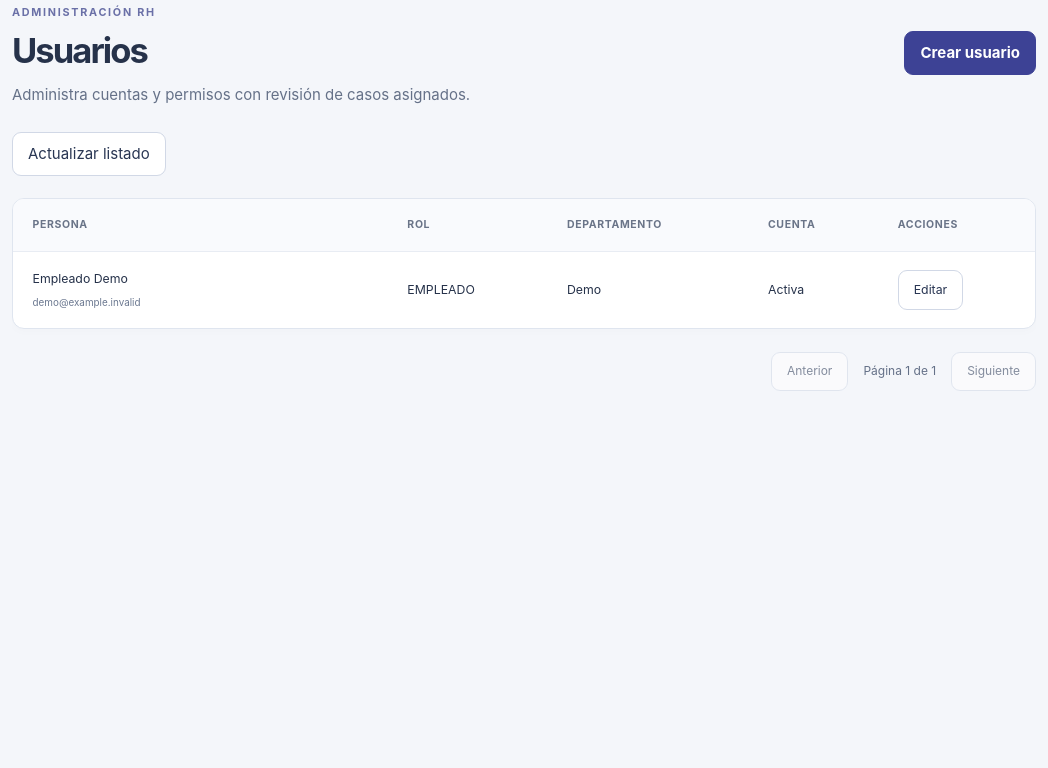
Scenario: modifica rol, departamento y baja con motivo y muestra ajustes
Click the button with aria-label "Editar Empleado Demo".
click(930, 290)  # box [898,270,963,310]
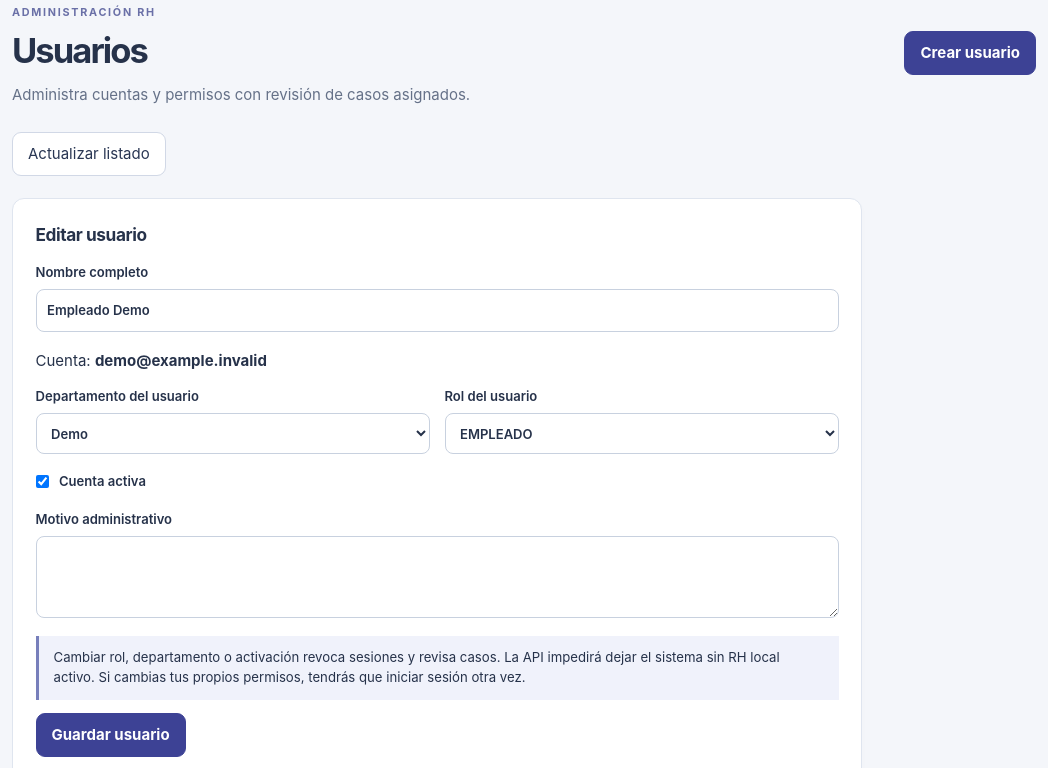
Select "SUPERVISOR" in the dropdown labelled "Rol del usuario" at (642, 434), box [444,413,838,454]
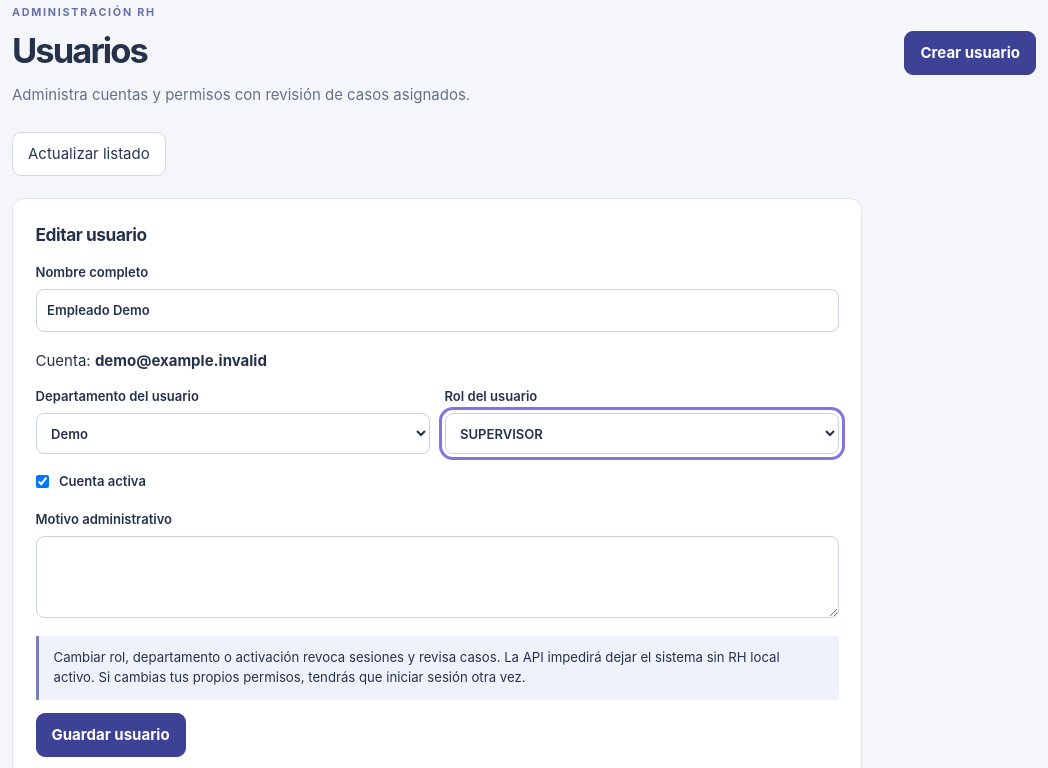
Select "Otro" in the dropdown labelled "Departamento del usuario" at (232, 434), box [36,413,430,454]
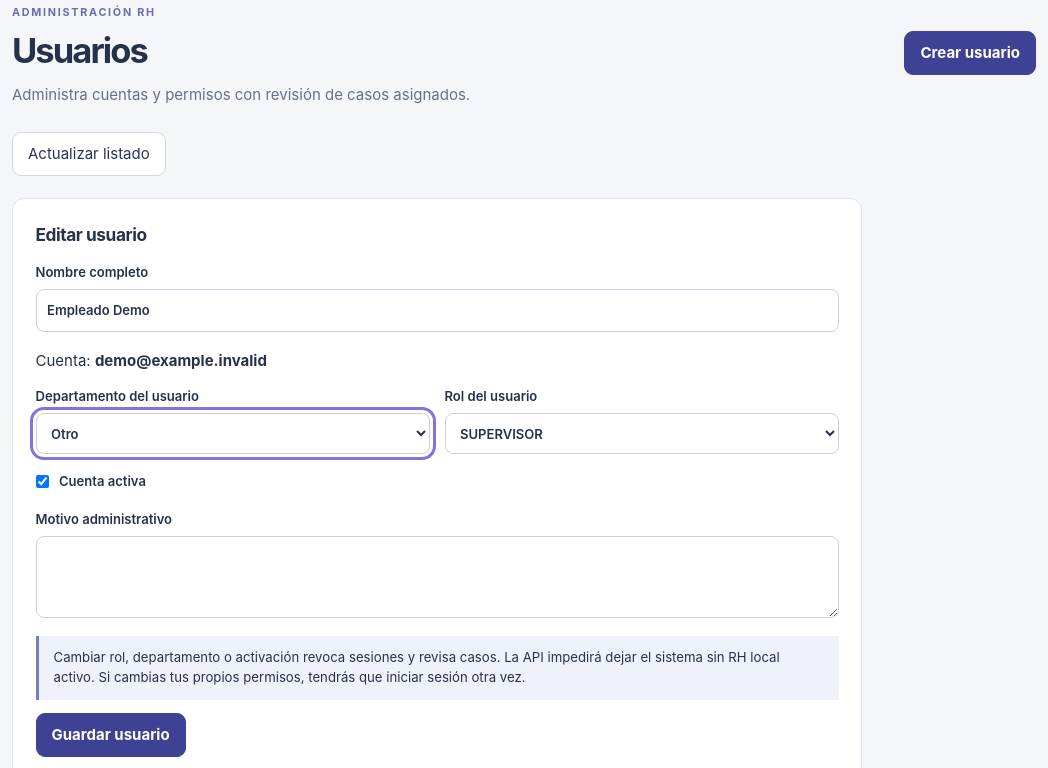
Click the checkbox labelled "Cuenta activa".
click(42, 482)  # box [36,475,48,488]
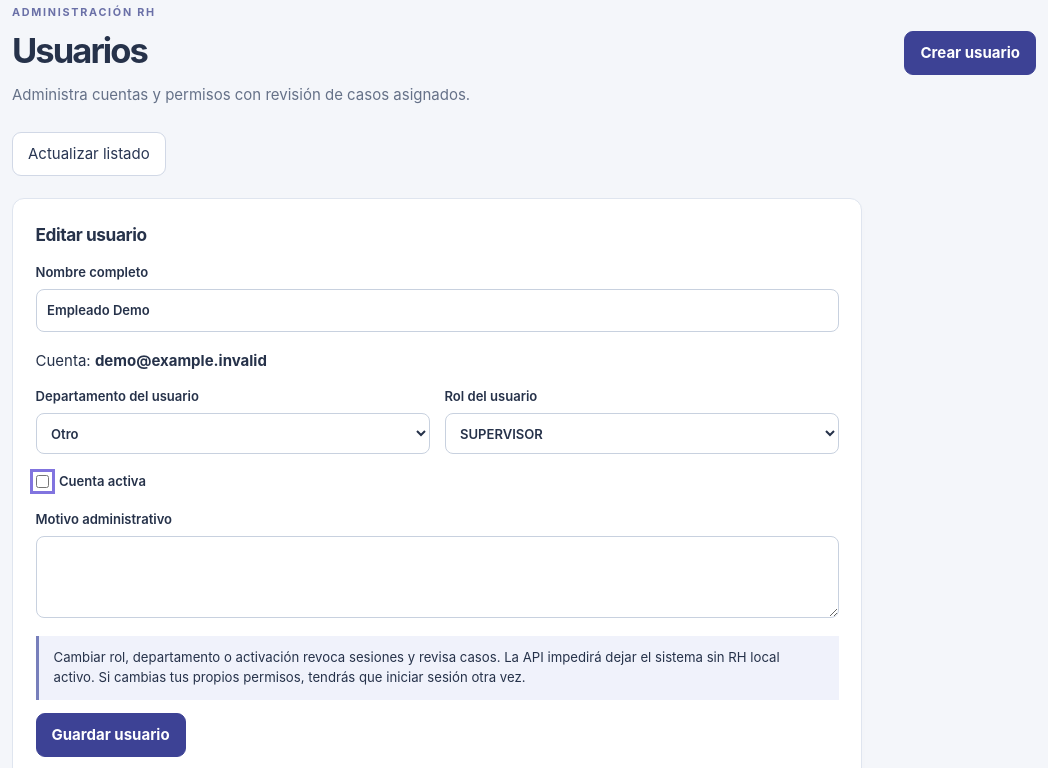
Type "Cambio ficticio" into the text box labelled "Motivo administrativo".
click(437, 577); type("Cambio ficticio")  # box [36,536,838,618]
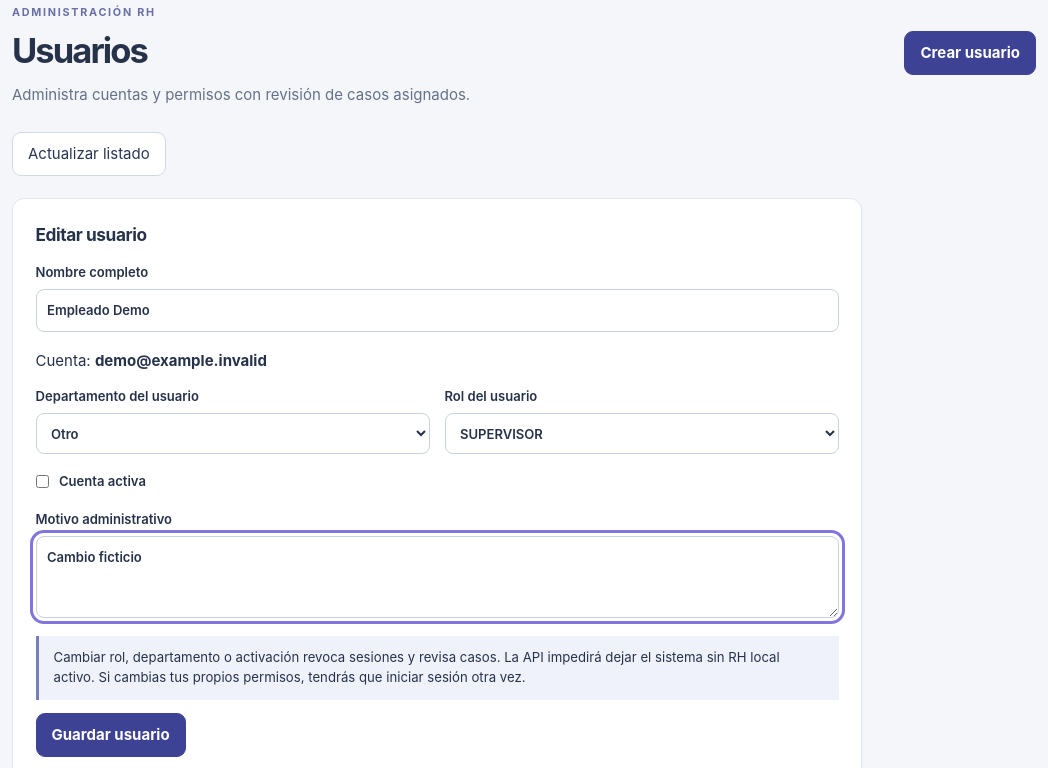
Click the button "Guardar usuario".
click(111, 735)  # box [36,713,186,757]
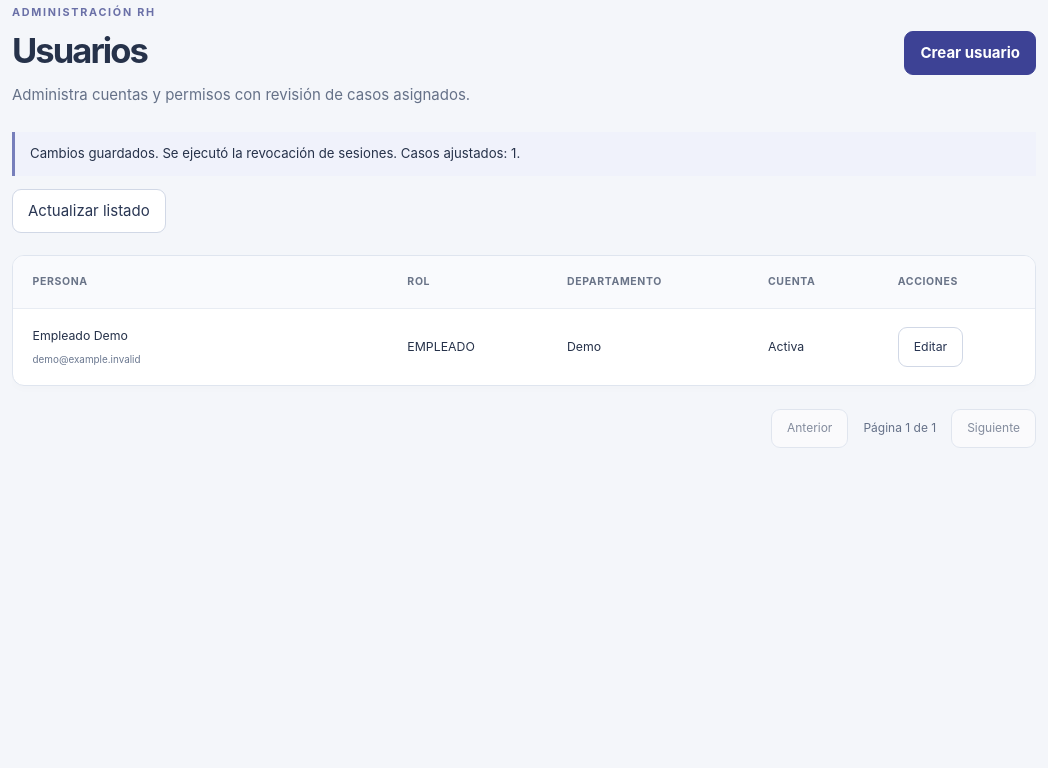
Now the text "Cambios guardados. Se ejecutó la revocación de sesiones. Casos ajustados: 1." is shown, box [12,132,1036,176]
